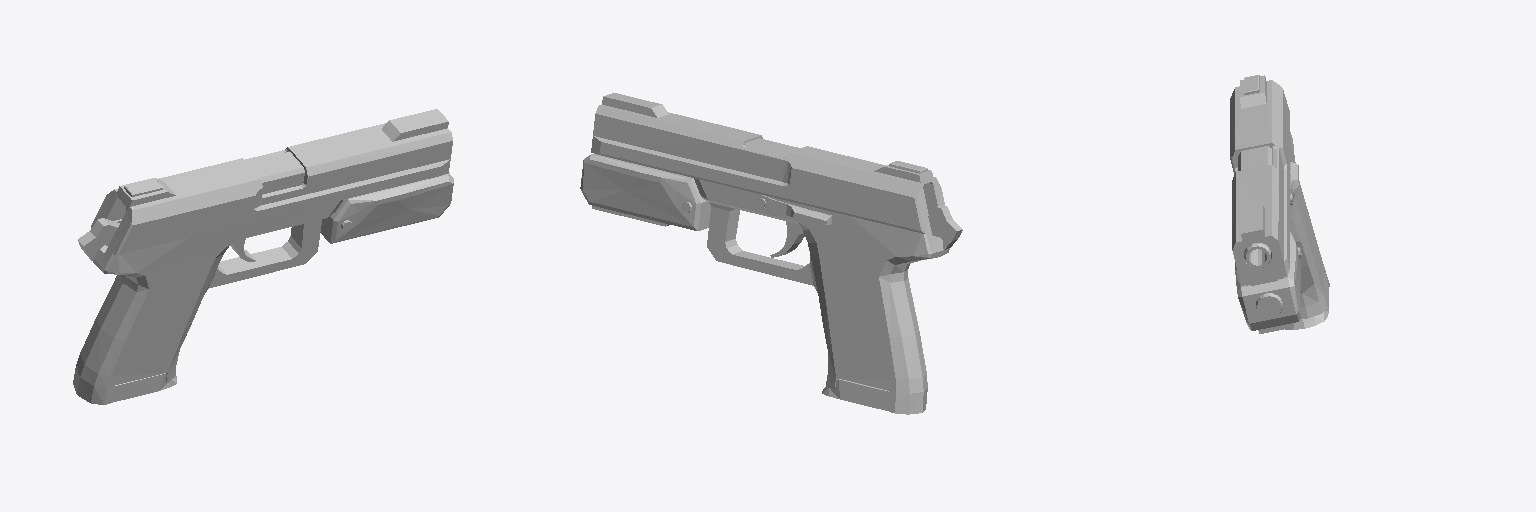
File: pistol2_000022.obj
3 views of the same model, side by side, from view 1: azimuth 30°, elevation 25°; view 2: azimuth 150°, elevation 25°; view 3: azimuth 270°, elevation 25° (orthographic).
Visible parts, largest first — view 1: Pistol; view 2: Pistol; view 3: Pistol.
Boxes of the visible parts, x1,y1,x2,y2 form: Pistol: [73, 109, 453, 404]; Pistol: [580, 93, 962, 414]; Pistol: [1230, 75, 1329, 333].
Bounding box in the file's own units: 0.9462 × 0.5524 × 0.2219.